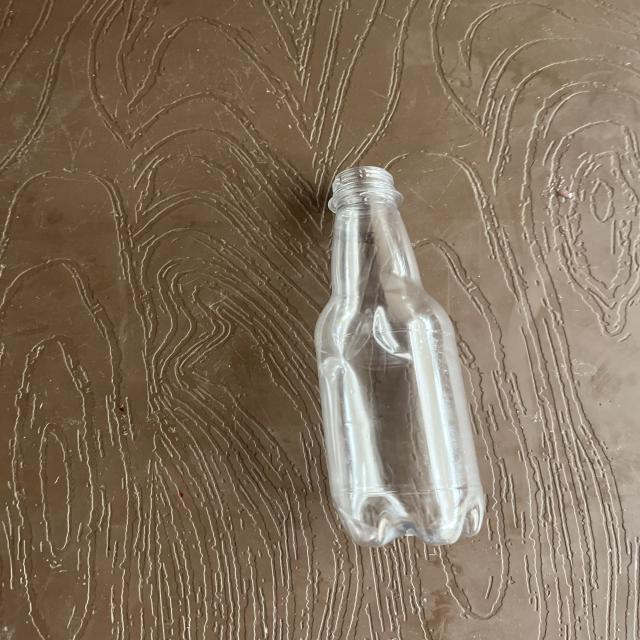PET_ClearBottle: (299, 163, 497, 632)
